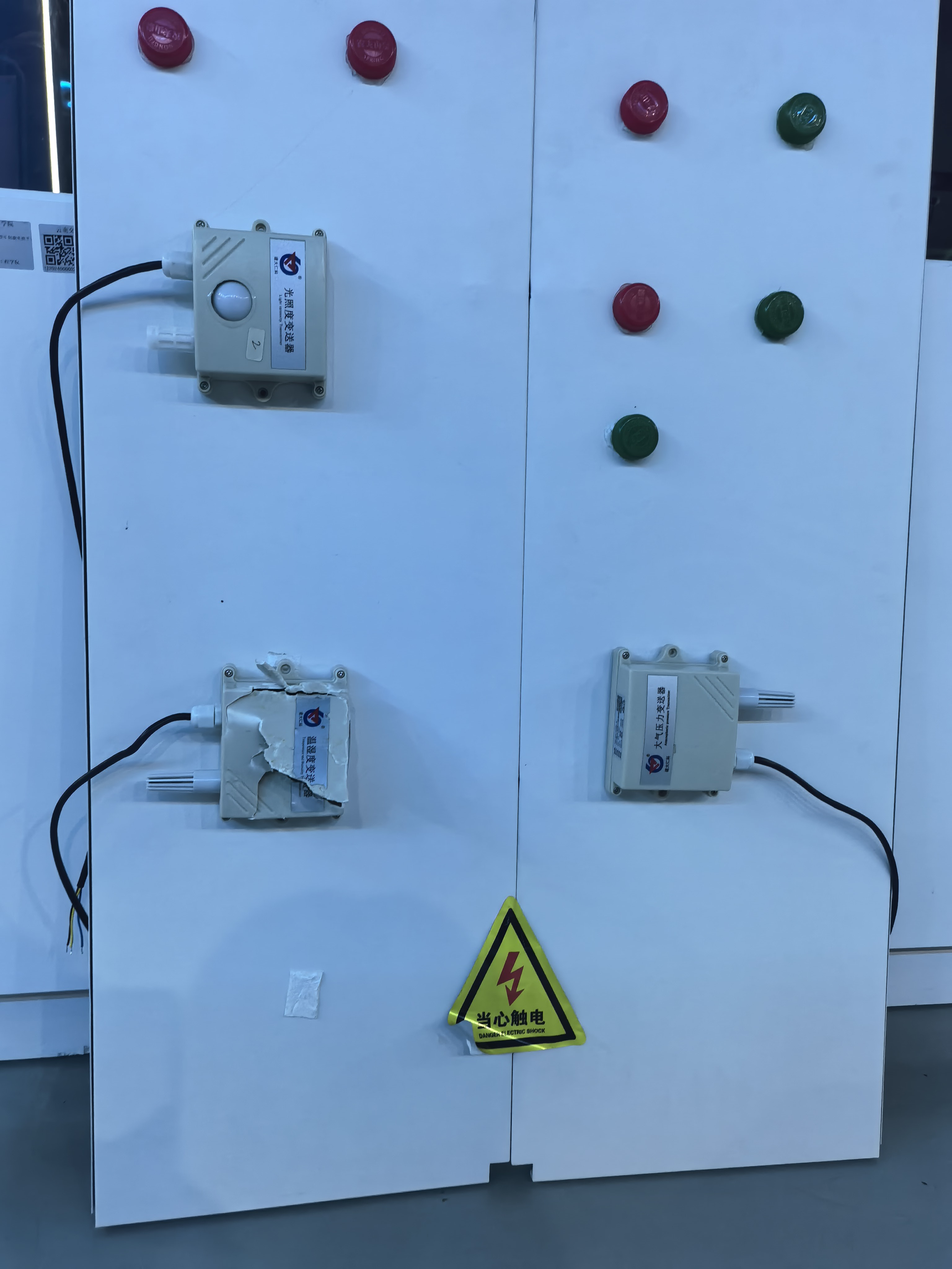red_warning: (321, 13, 438, 99), (600, 56, 701, 152), (121, 1, 236, 82), (602, 266, 674, 352)
sensor_damage: (118, 624, 395, 846)
